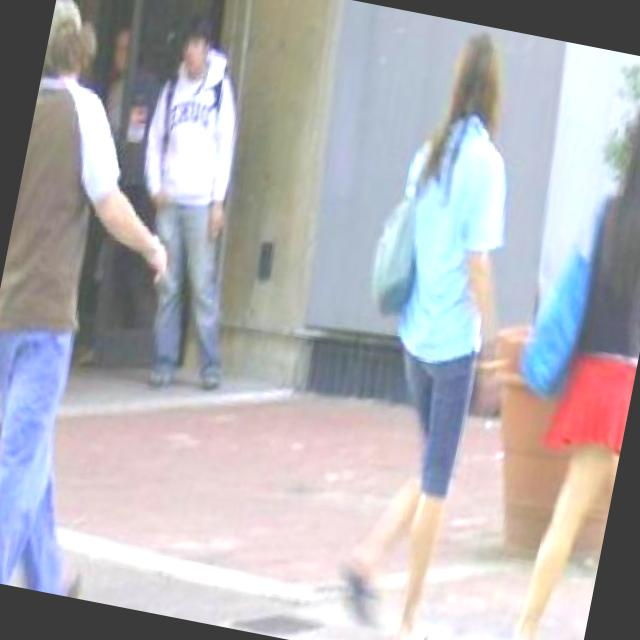Person: (290, 11, 557, 640), (0, 0, 210, 601), (490, 83, 640, 640), (106, 21, 274, 400)
